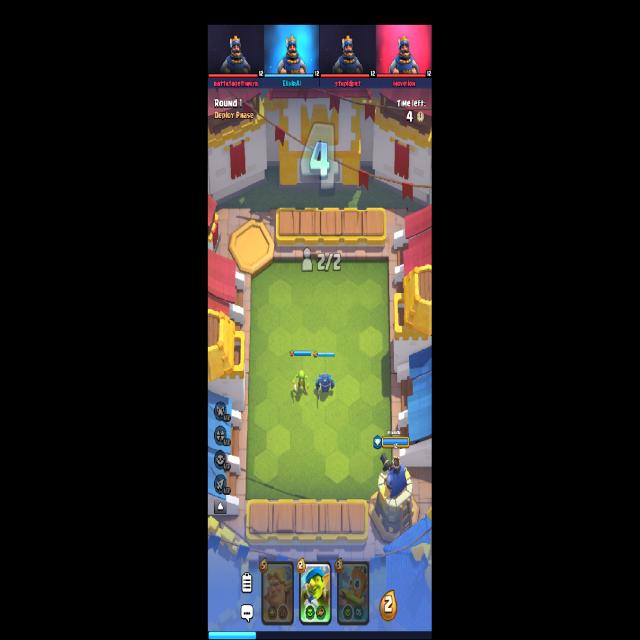card_dart_goblin: (337, 560, 370, 626)
card_golden_knight: (261, 560, 294, 624)
card_spear_goblin: (300, 561, 332, 627)
goblin: (292, 370, 310, 398)
mini_pekka: (315, 372, 334, 403)
